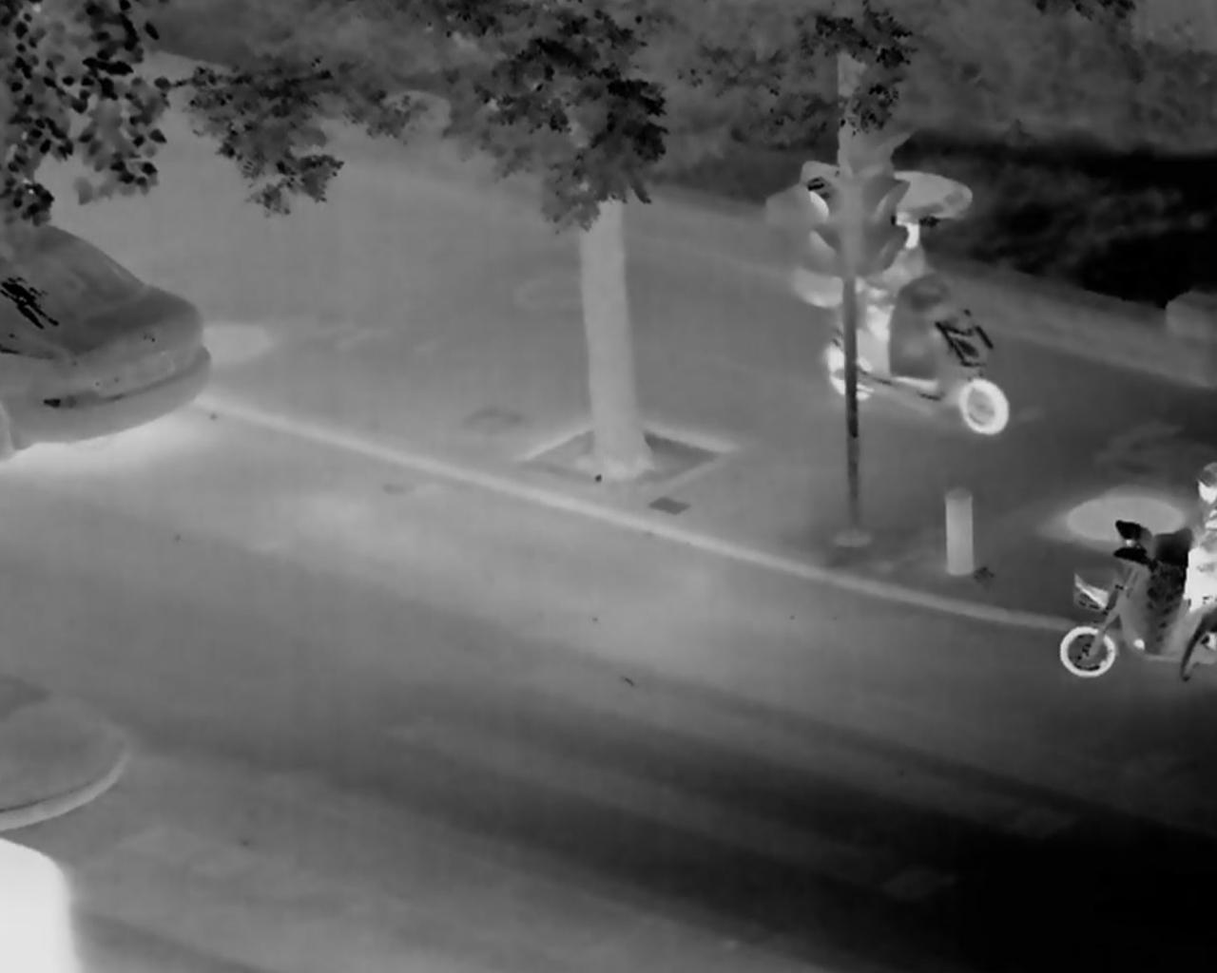person: (864, 208, 938, 396), (1196, 460, 1217, 583)
